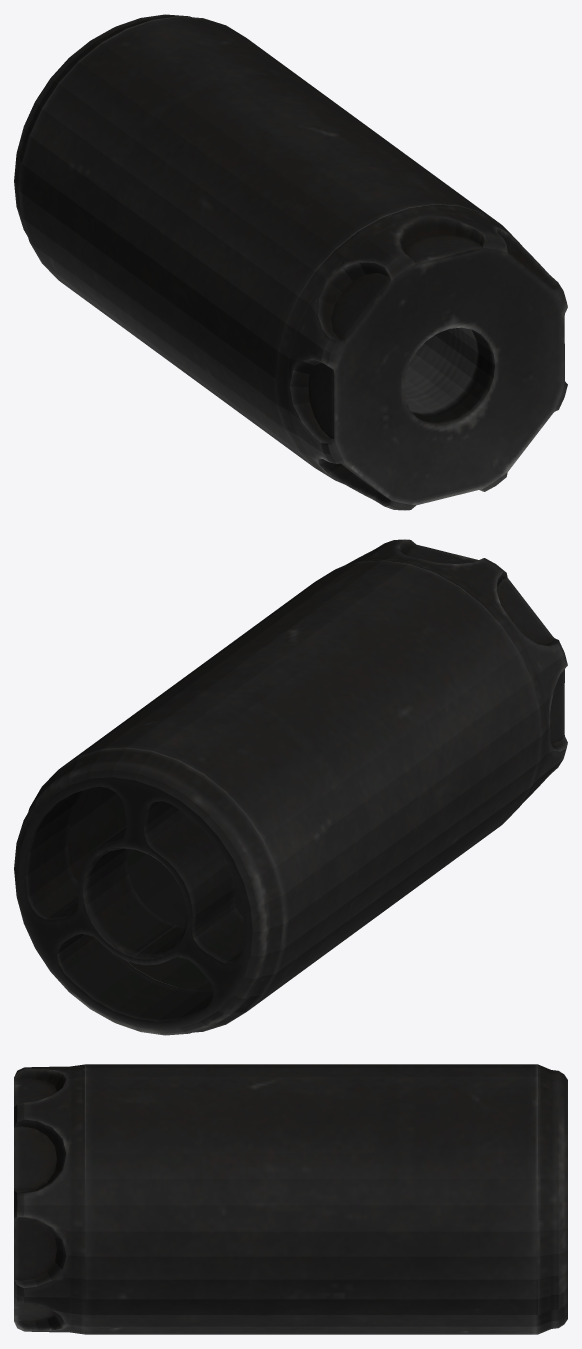
3 renders of one model, top to bottom at view 1: azimuth 30°, elevation 25°; view 2: azimuth 150°, elevation 25°; view 3: azimuth 270°, elevation 25°, orthographic. The views are drawn at different scales.
Parts seen in each view (by area): view 1: TW_62669bccdb9ebb4daa44cd14_PZ_Import; view 2: TW_62669bccdb9ebb4daa44cd14_PZ_Import; view 3: TW_62669bccdb9ebb4daa44cd14_PZ_Import.
Boxes of the visible parts, box(x1,y1,x2,y2) form: TW_62669bccdb9ebb4daa44cd14_PZ_Import: box(14, 14, 567, 510); TW_62669bccdb9ebb4daa44cd14_PZ_Import: box(14, 539, 567, 1035); TW_62669bccdb9ebb4daa44cd14_PZ_Import: box(14, 1064, 567, 1334).
Bounding box in the file's own units: 0.0196 × 0.0401 × 0.0196.
1 material, 1 textured.
